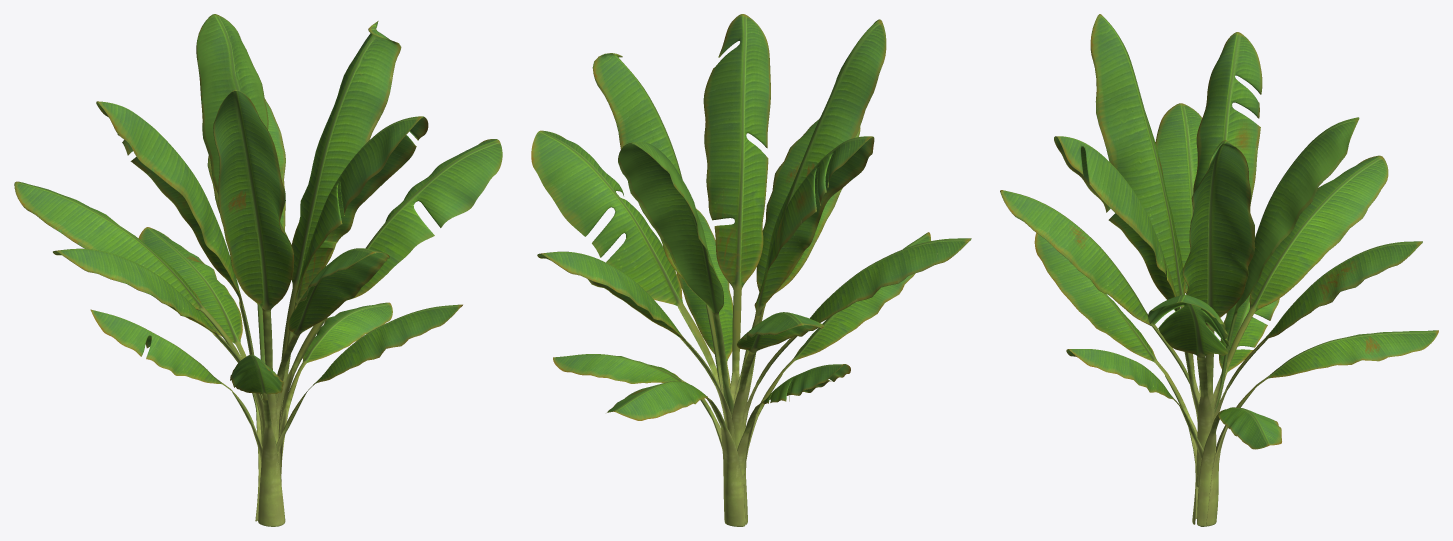
Rendered from banana_tree.glb.
3 views of the same model, side by side, from view 1: azimuth 30°, elevation 25°; view 2: azimuth 150°, elevation 25°; view 3: azimuth 270°, elevation 25° (orthographic). The views are drawn at different scales.
Visible parts, largest first — view 1: Plane_0; view 2: Plane_0; view 3: Plane_0.
Part boxes in pixels (x1=…): Plane_0: x1=14, y1=14, x2=502, y2=526; Plane_0: x1=531, y1=14, x2=971, y2=526; Plane_0: x1=1000, y1=14, x2=1438, y2=526.
Bounding box in the file's own units: 24.28 × 26.16 × 22.22.
Materials: 1 (1 with a texture image).
